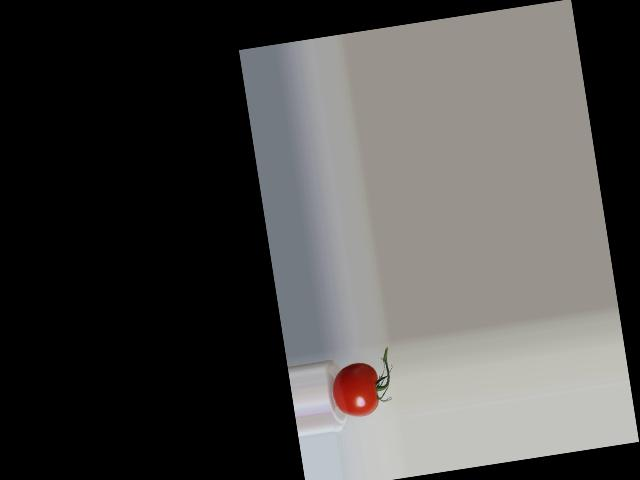tomato: (329, 359, 382, 419)
